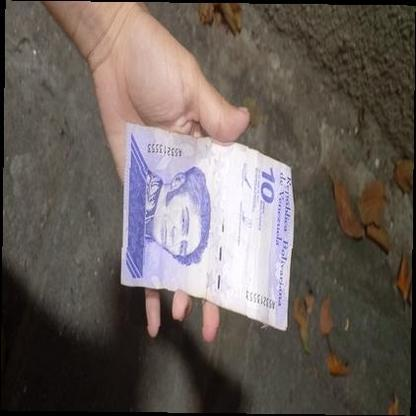ten-front-vef: (119, 120, 292, 330)
